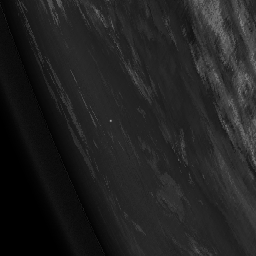Target: (107, 118, 112, 123)
